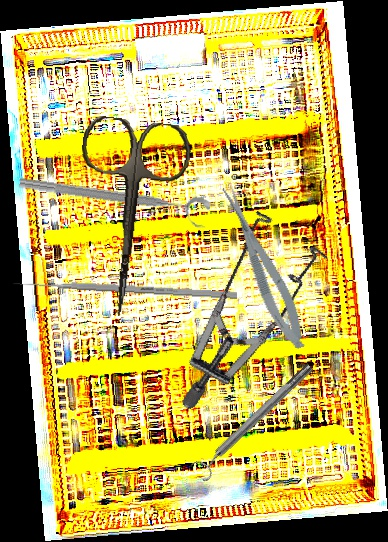Fixation Ring: (188, 358, 320, 483), (16, 171, 212, 231)
Iris Scissors: (62, 114, 195, 322)
Micro Scissor: (216, 179, 313, 355)
Pusher: (12, 279, 238, 299)
Speculum: (120, 192, 361, 412)
